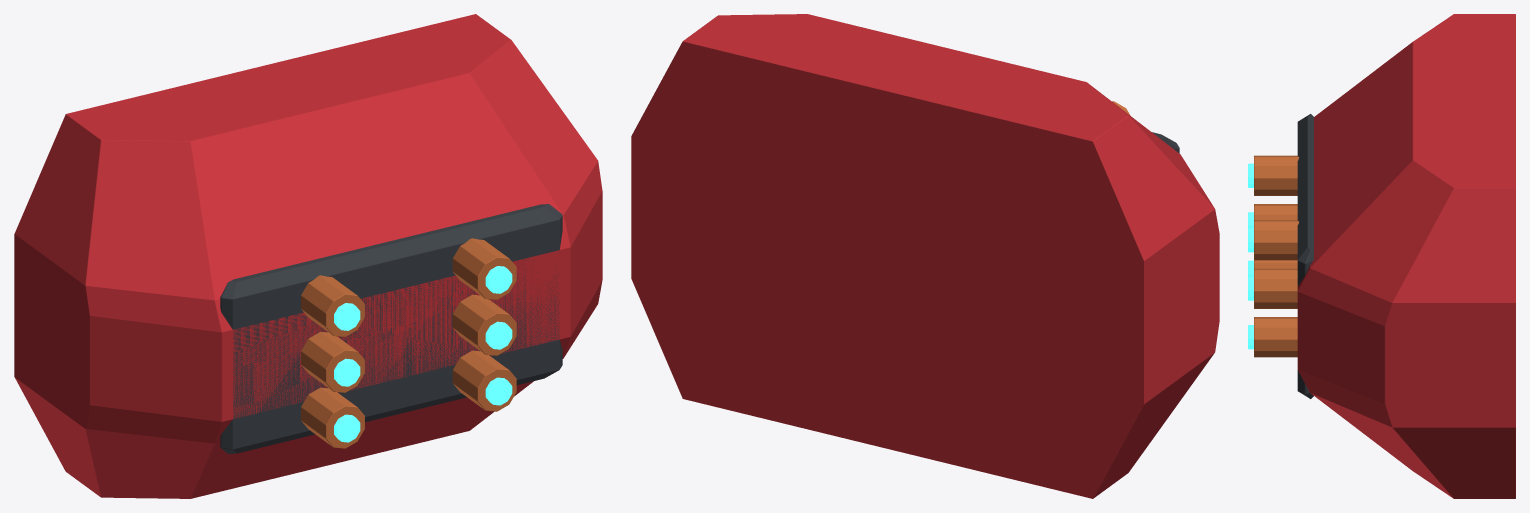
File: HandBack_Set06_Voltaic.fbx
3 views of the same model, side by side, from view 1: azimuth 30°, elevation 25°; view 2: azimuth 150°, elevation 25°; view 3: azimuth 270°, elevation 25° (orthographic). The views are drawn at different scales.
Parts seen in each view (by area): view 1: HandBack_Set06_Voltaic; view 2: HandBack_Set06_Voltaic; view 3: HandBack_Set06_Voltaic.
Part boxes in pixels (x1,y1,x2,y2): HandBack_Set06_Voltaic: (14, 14, 602, 498); HandBack_Set06_Voltaic: (631, 14, 1219, 498); HandBack_Set06_Voltaic: (1248, 14, 1515, 498).
Bounding box in the file's own units: 0.3 × 0.2 × 0.156.
